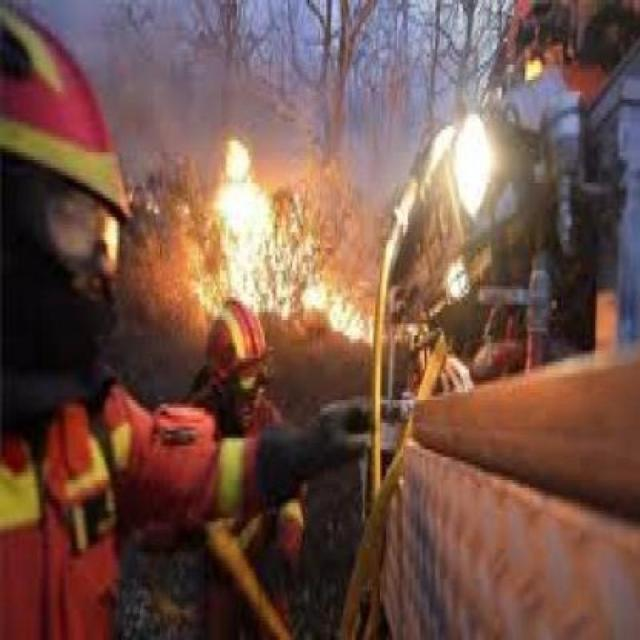Fire: (178, 114, 362, 360)
